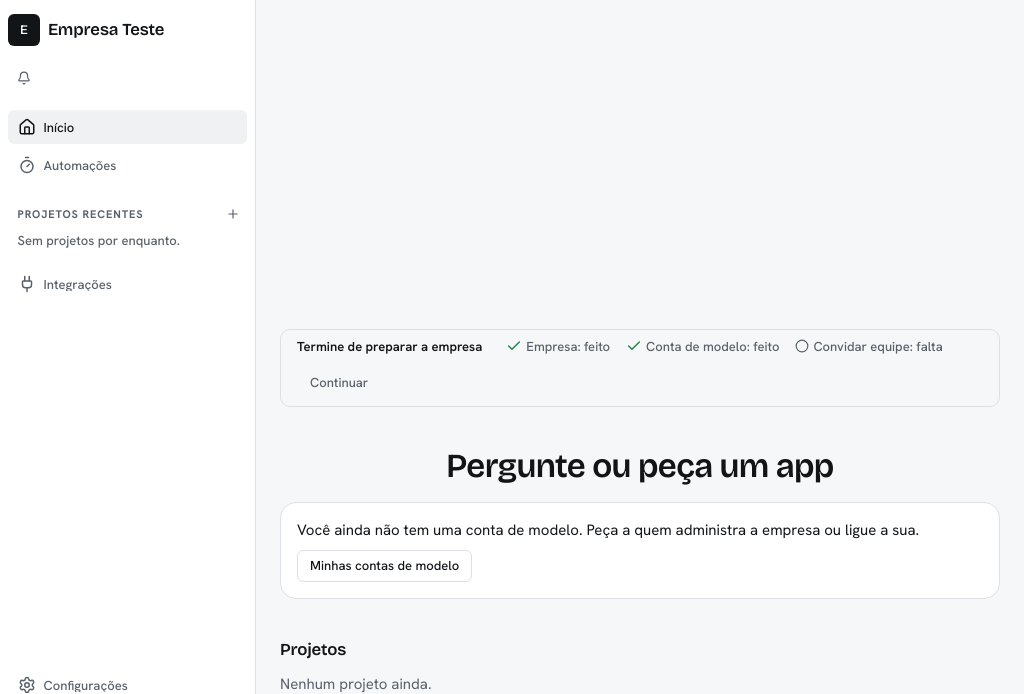
Test: com a conta ligada e sem equipe, Continuar abre Pessoas e convites
(page scrolled)
Expected: the list item "Conta de modelo: feito" is shown, [626, 338, 779, 354]
Expected: the list item "Convidar equipe: falta" is shown, [795, 338, 943, 354]
Click the link "Continuar": (339, 382) [310, 374, 368, 390]
(page scrolled)
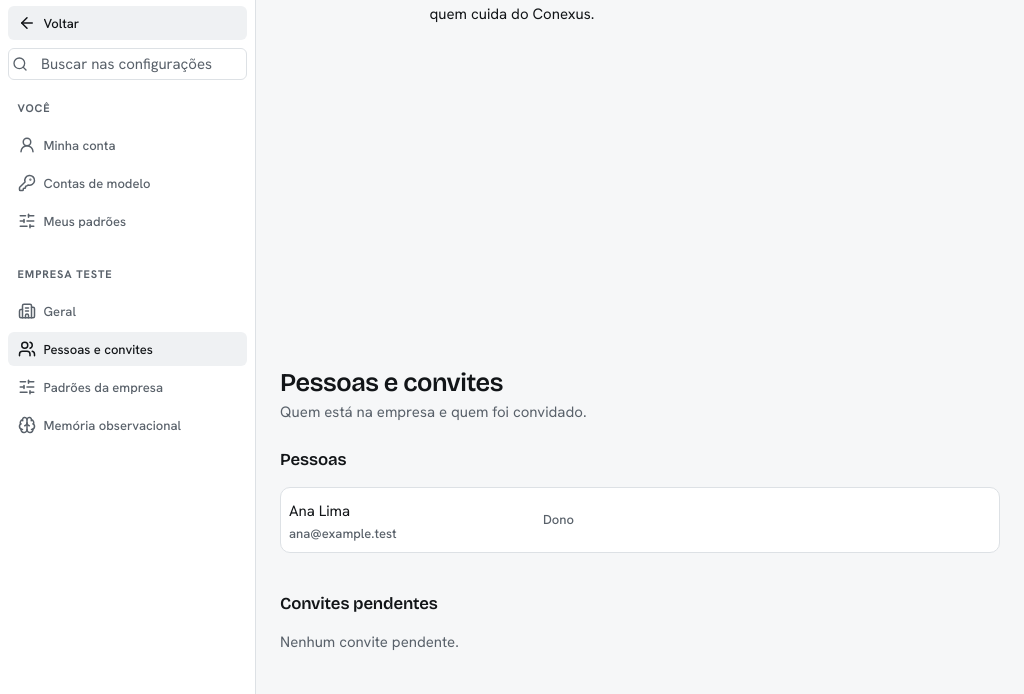
Result: the heading "Pessoas e convites" is shown at [280, 367, 503, 398]
